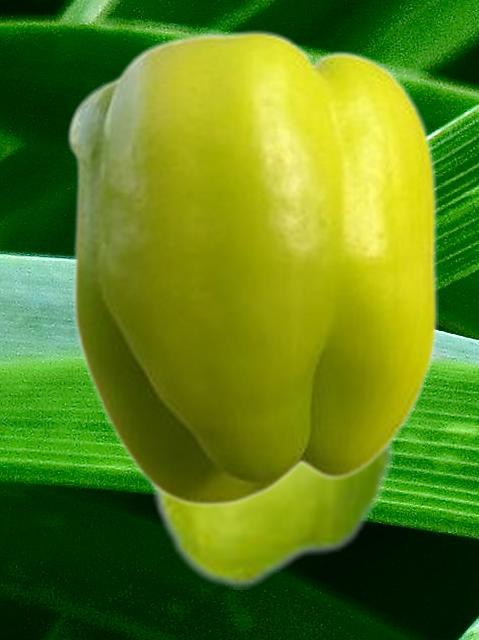bell_pepper: (66, 28, 437, 506), (145, 443, 395, 588)
